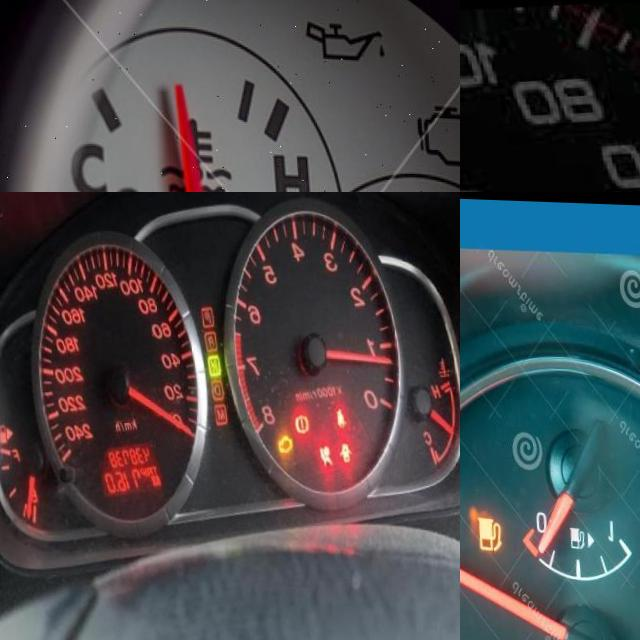Seat Belt: (331, 405, 342, 425)
